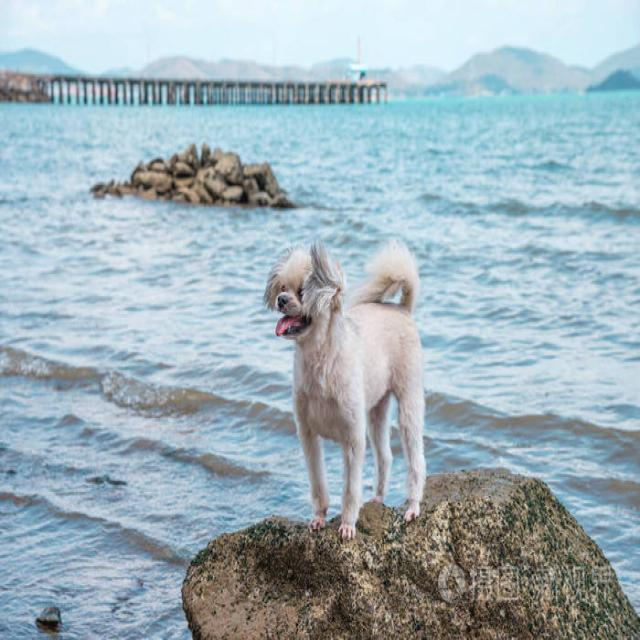fishing boat: (99, 111, 327, 219)
